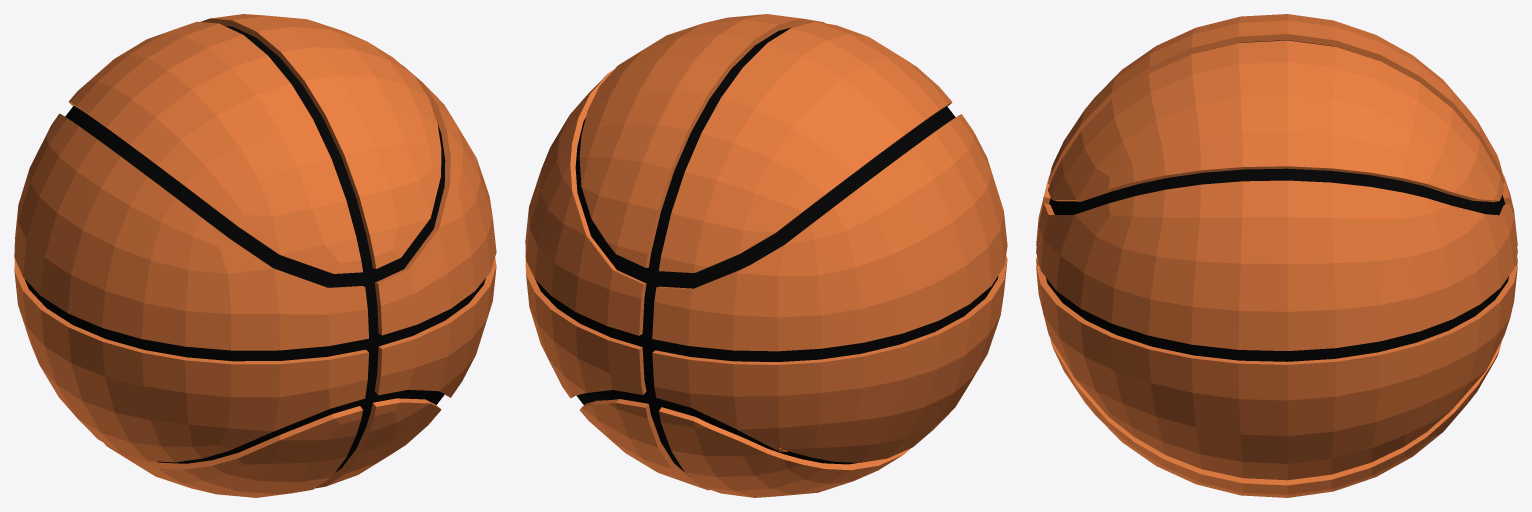
File: basketball.glb
3 renders of one model, left to right at view 1: azimuth 30°, elevation 25°; view 2: azimuth 150°, elevation 25°; view 3: azimuth 270°, elevation 25°, orthographic.
Parts seen in each view (by area): view 1: Cube; view 2: Cube; view 3: Cube.
Part boxes in pixels (x1,y1,x2,y2): Cube: (14, 14, 496, 497); Cube: (525, 14, 1007, 497); Cube: (1036, 14, 1517, 497).
Size of the model in its own units: 1.63 by 1.63 by 1.63.
